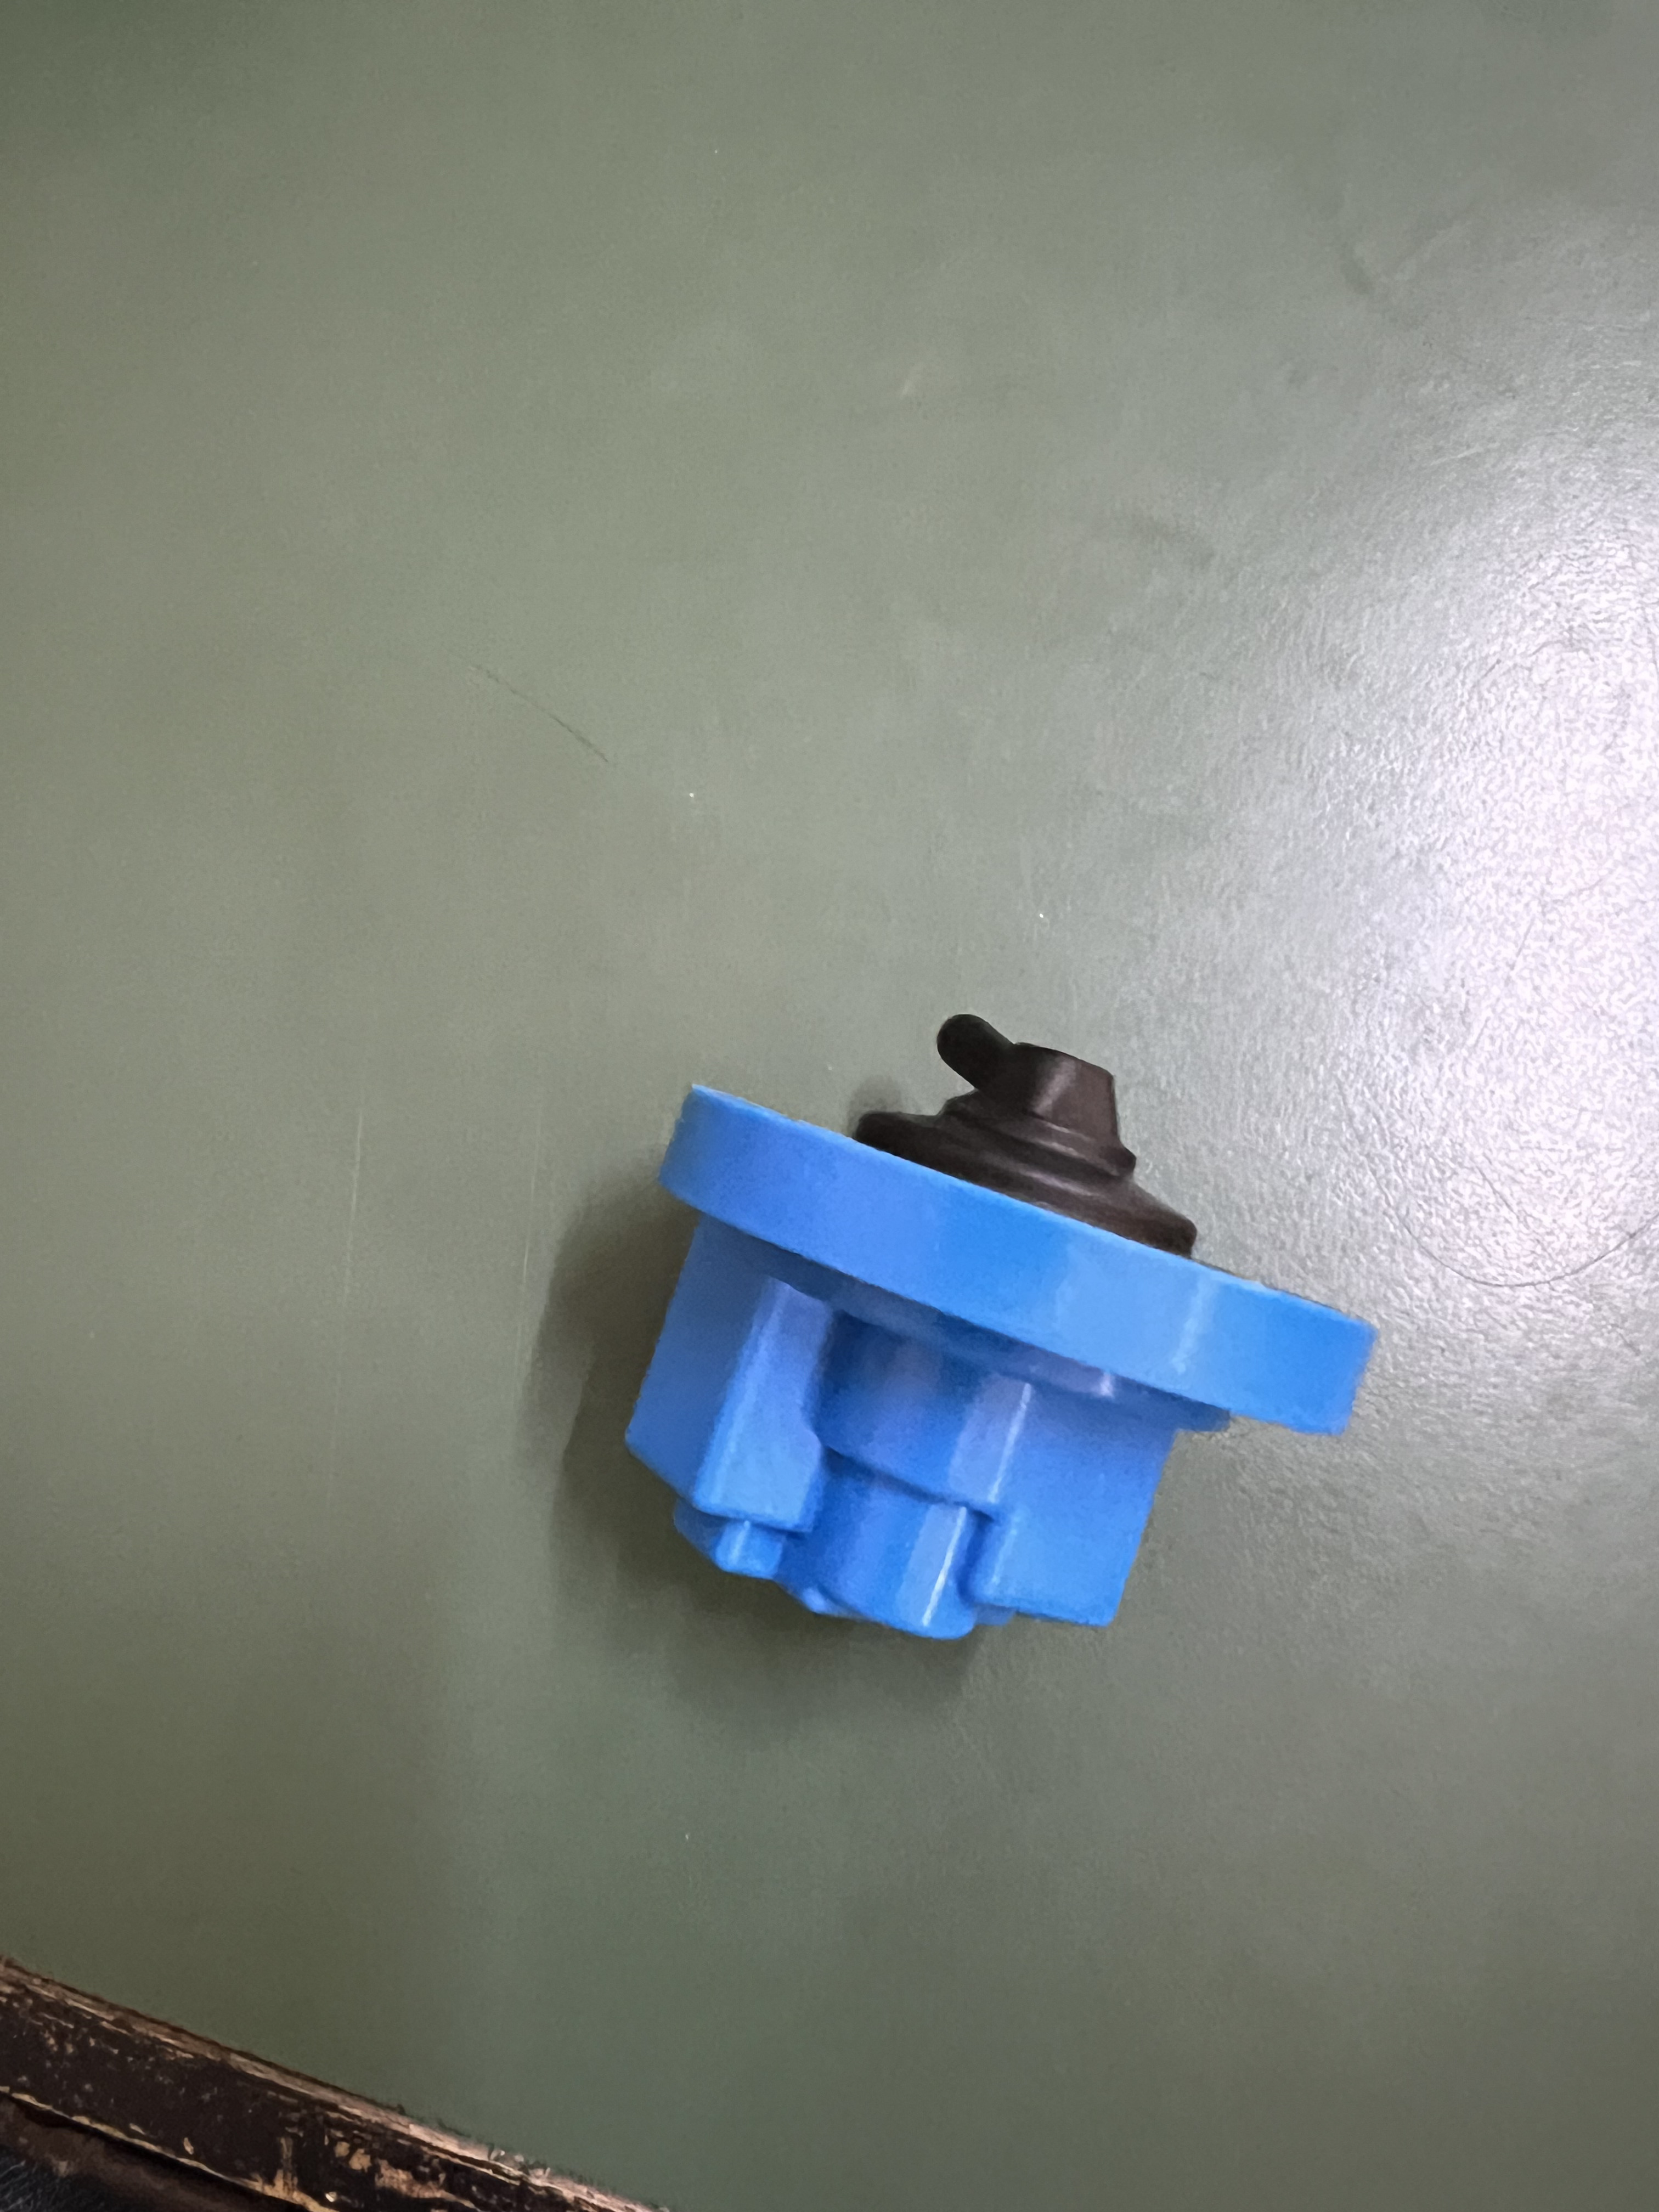voltas_beko_pressure_switch: (640, 1017, 1419, 1676)
